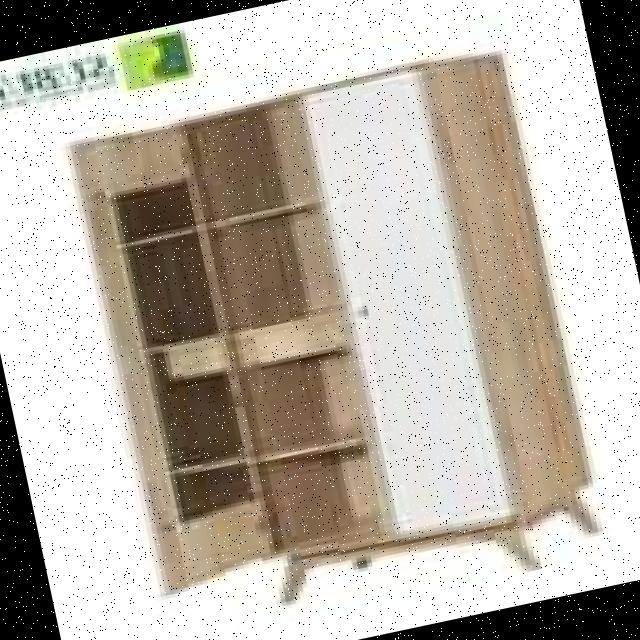Closet: (51, 37, 615, 640)
